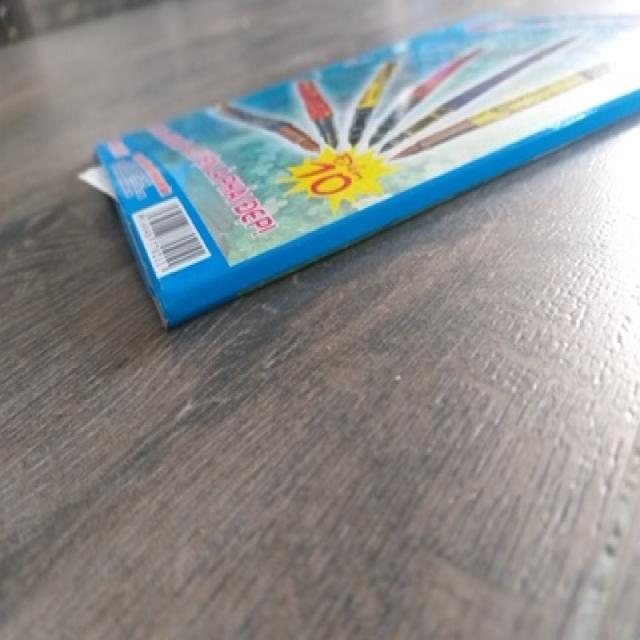PaperCardboard: (82, 0, 640, 333)
